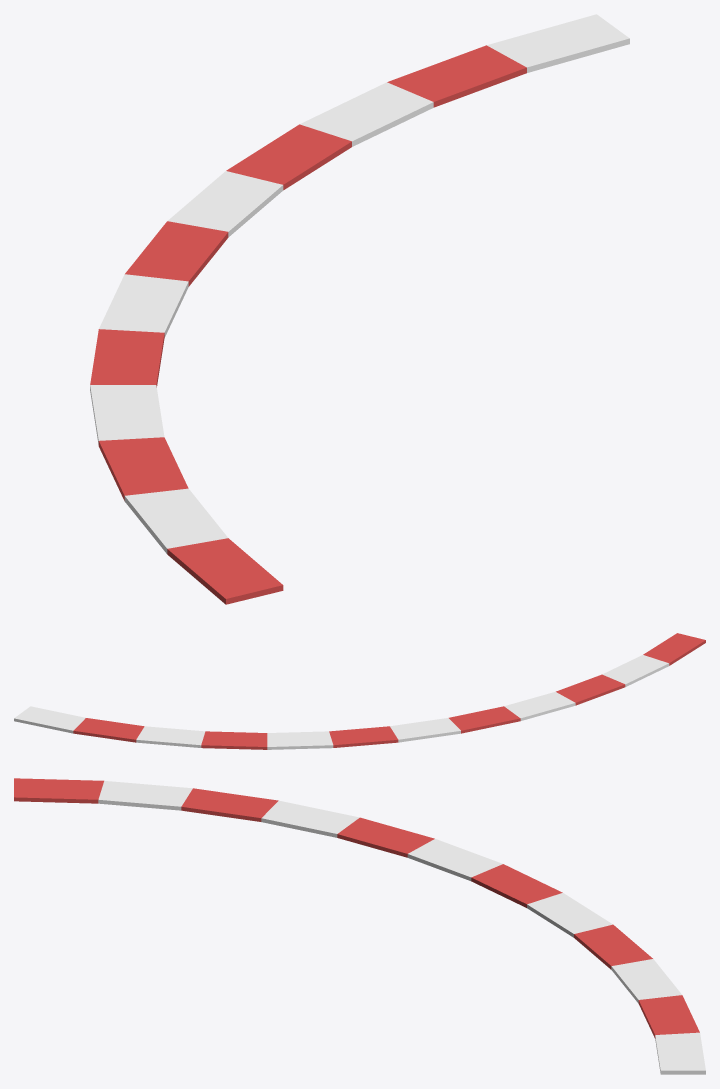
File: roadCornerLargerBorder.glb
3 views of the same model, one above another, from view 1: azimuth 30°, elevation 25°; view 2: azimuth 150°, elevation 25°; view 3: azimuth 270°, elevation 25° (orthographic). The views are drawn at different scales.
Visible parts, largest first — view 1: roadCornerLargerBorder(Clone); view 2: roadCornerLargerBorder(Clone); view 3: roadCornerLargerBorder(Clone).
Boxes of the visible parts, x1,y1,x2,y2 form: roadCornerLargerBorder(Clone): (90, 14, 629, 604); roadCornerLargerBorder(Clone): (14, 633, 705, 749); roadCornerLargerBorder(Clone): (14, 778, 705, 1074).
Bounding box in the file's own units: 3.21 × 0.02 × 3.21.
